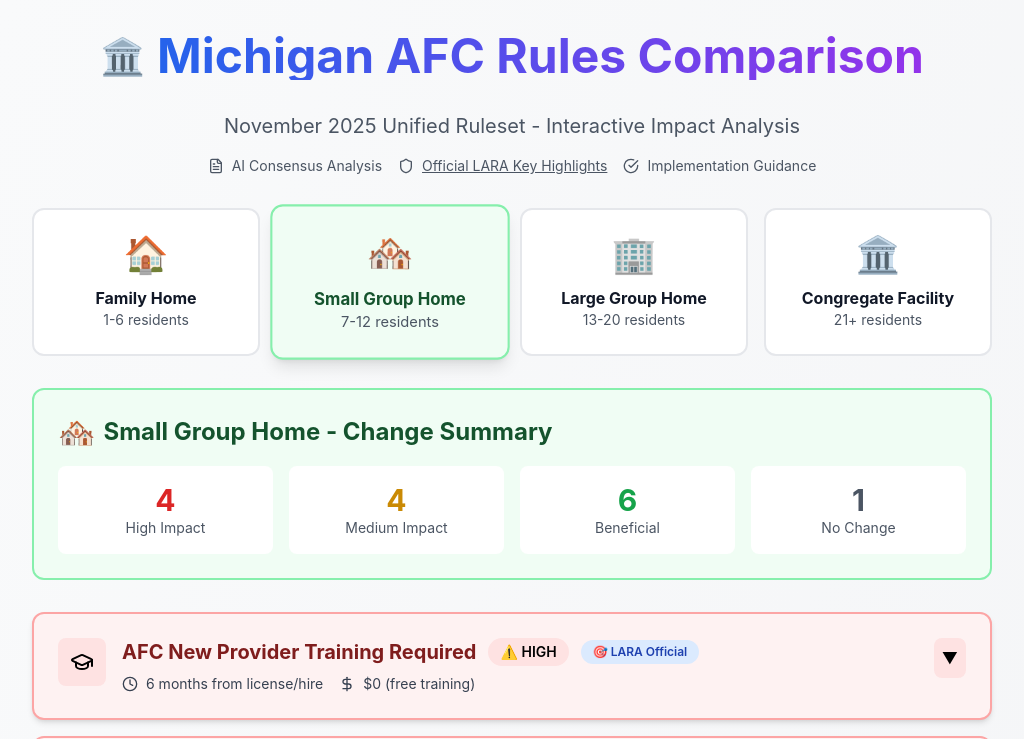
Scenario: AFCRulesInfographic › Facility Type Selection › switches to Large Group Home when clicked
What coordinates should you click on to do the following:
click the text "Large Group Home"
I would click on:
 (634, 298)
Its box is [561,288,707,308].
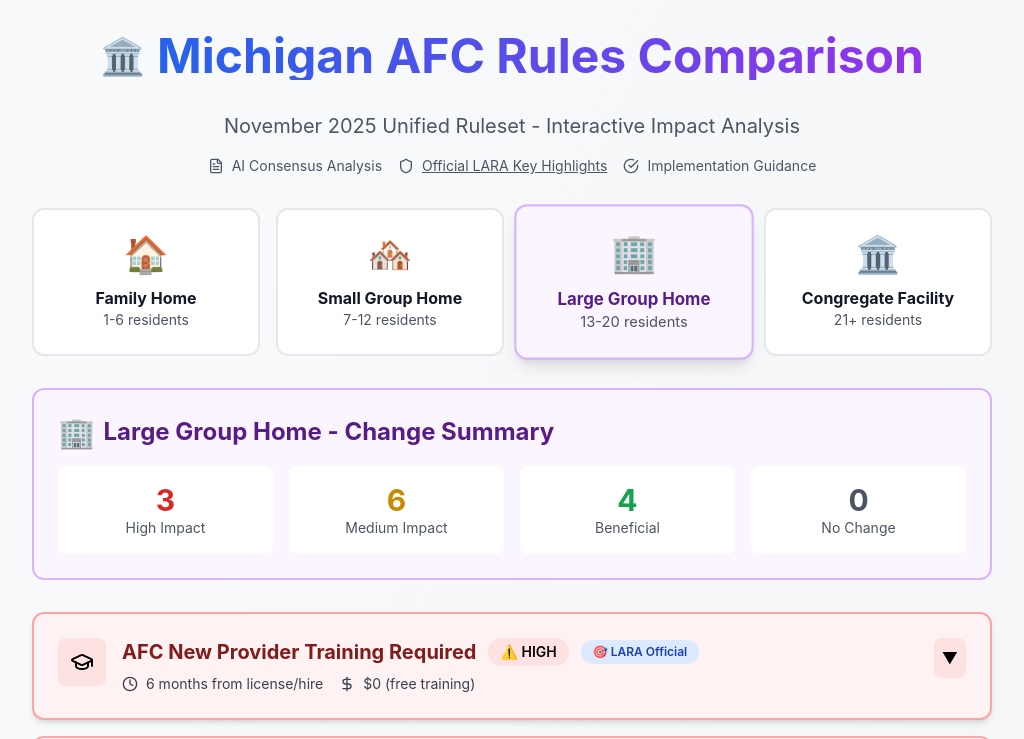
Check: the heading "🏢 Large Group Home - Change Summary" is shown, box [58,414,554,450]
